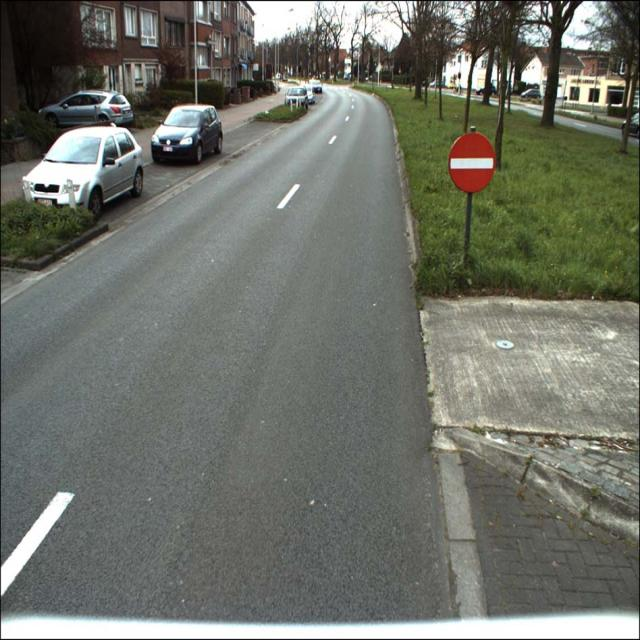girisyok: (449, 132, 495, 194)
